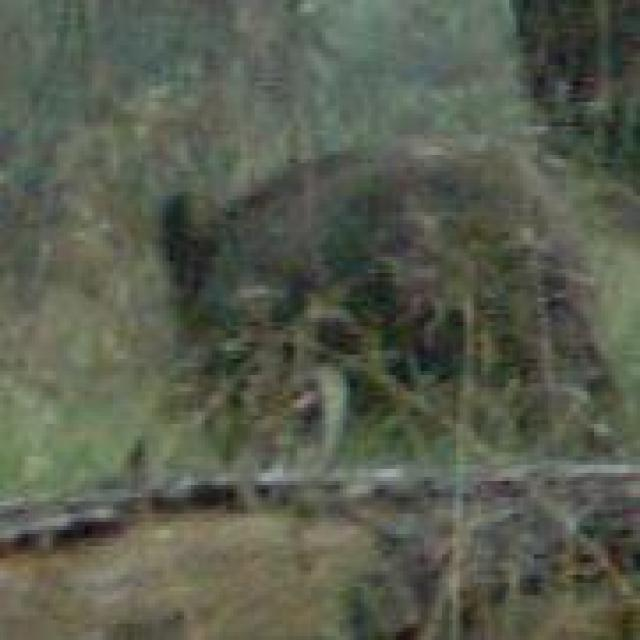pig: (102, 57, 640, 402)
